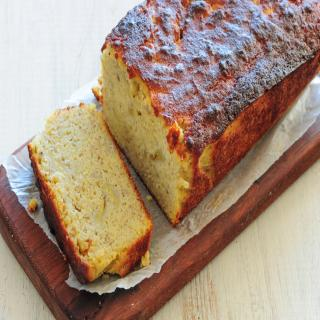Bread: (99, 13, 301, 258), (28, 101, 153, 284)
